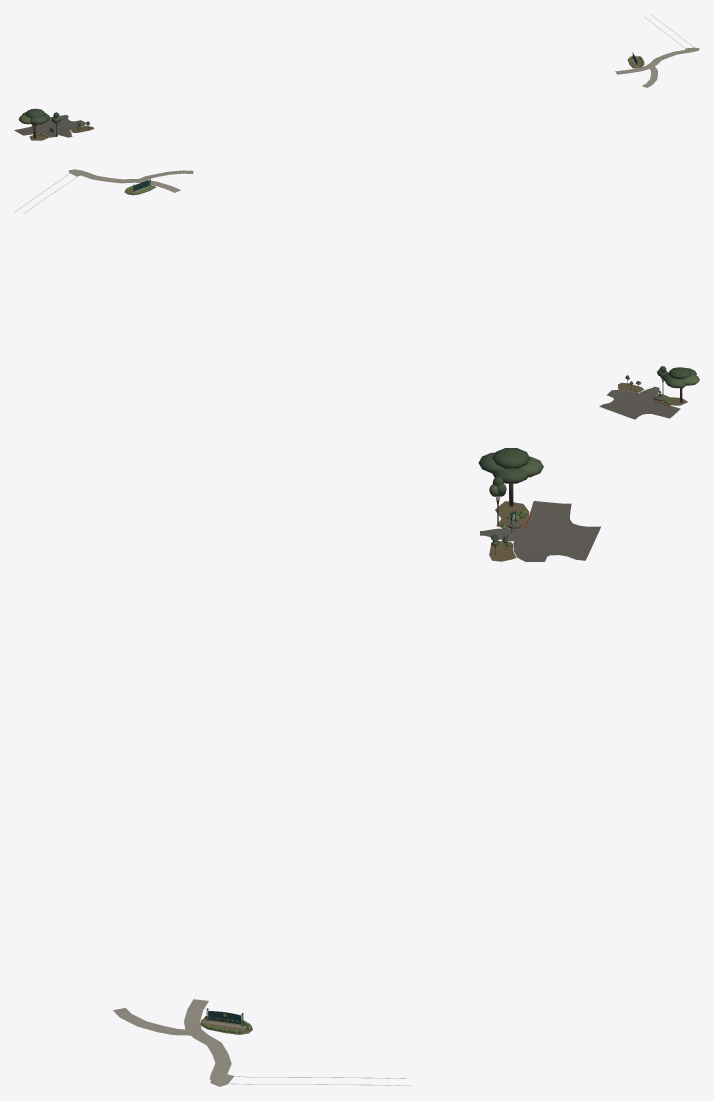
Rendered from site.glb.
The picture shows the model from 3 angles, top to bottom: view 1: azimuth 30°, elevation 25°; view 2: azimuth 150°, elevation 25°; view 3: azimuth 270°, elevation 25°; orthographic projection. The views are drawn at different scales.
Visible parts, largest first — view 1: northeast-wayfinding-paving, northeast-wayfinding-planting; view 2: northeast-wayfinding-paving, northeast-wayfinding-planting; view 3: northeast-wayfinding-paving, northeast-wayfinding-planting.
Boxes of the visible parts, left/top/right/bottom form: northeast-wayfinding-paving: left=14, top=47, right=699, bottom=140; northeast-wayfinding-planting: left=18, top=55, right=644, bottom=138; northeast-wayfinding-paving: left=68, top=169, right=688, bottom=419; northeast-wayfinding-planting: left=125, top=184, right=699, bottom=404; northeast-wayfinding-paving: left=113, top=501, right=600, bottom=1086; northeast-wayfinding-planting: left=202, top=448, right=543, bottom=1033.
Size of the model in its own units: 277 by 13.13 by 96.38.
